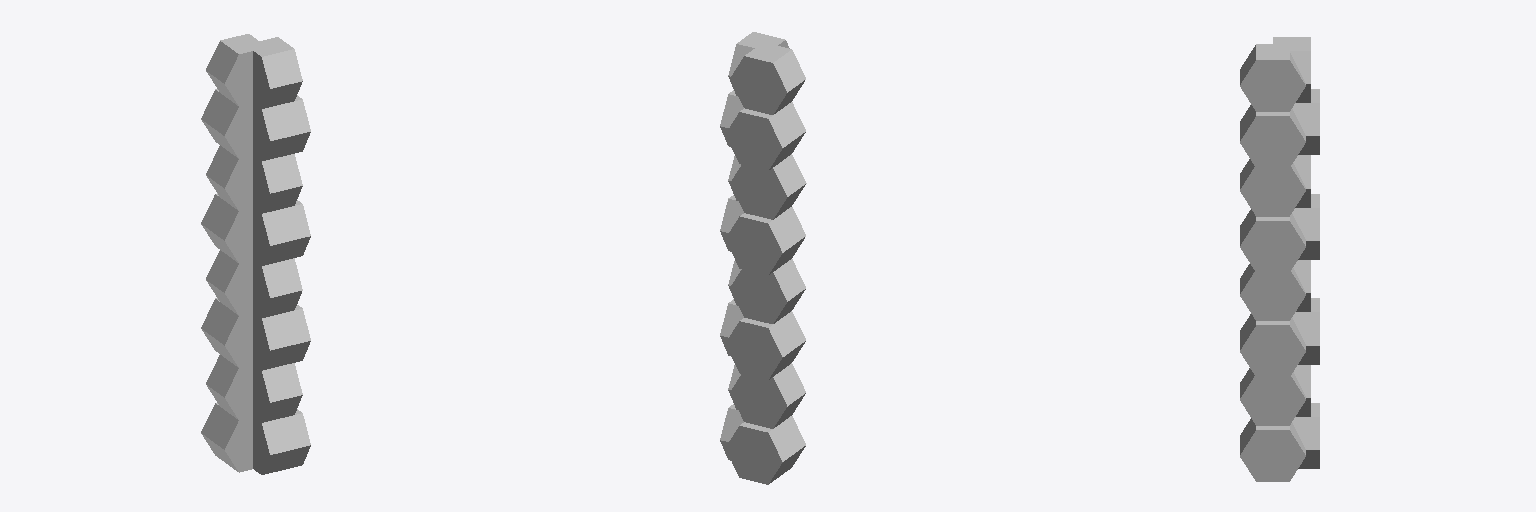
Rendered from cabinCorner.obj.
3 renders of one model, left to right at view 1: azimuth 30°, elevation 25°; view 2: azimuth 150°, elevation 25°; view 3: azimuth 270°, elevation 25°, orthographic.
Parts seen in each view (by area): view 1: cabinCorner; view 2: cabinCorner; view 3: cabinCorner.
Boxes of the visible parts, box(x1,y1,x2,y2) form: cabinCorner: box(201, 34, 310, 474); cabinCorner: box(720, 32, 806, 484); cabinCorner: box(1240, 37, 1319, 481).
Bounding box in the file's own units: 0.1702 × 0.9727 × 0.1702.